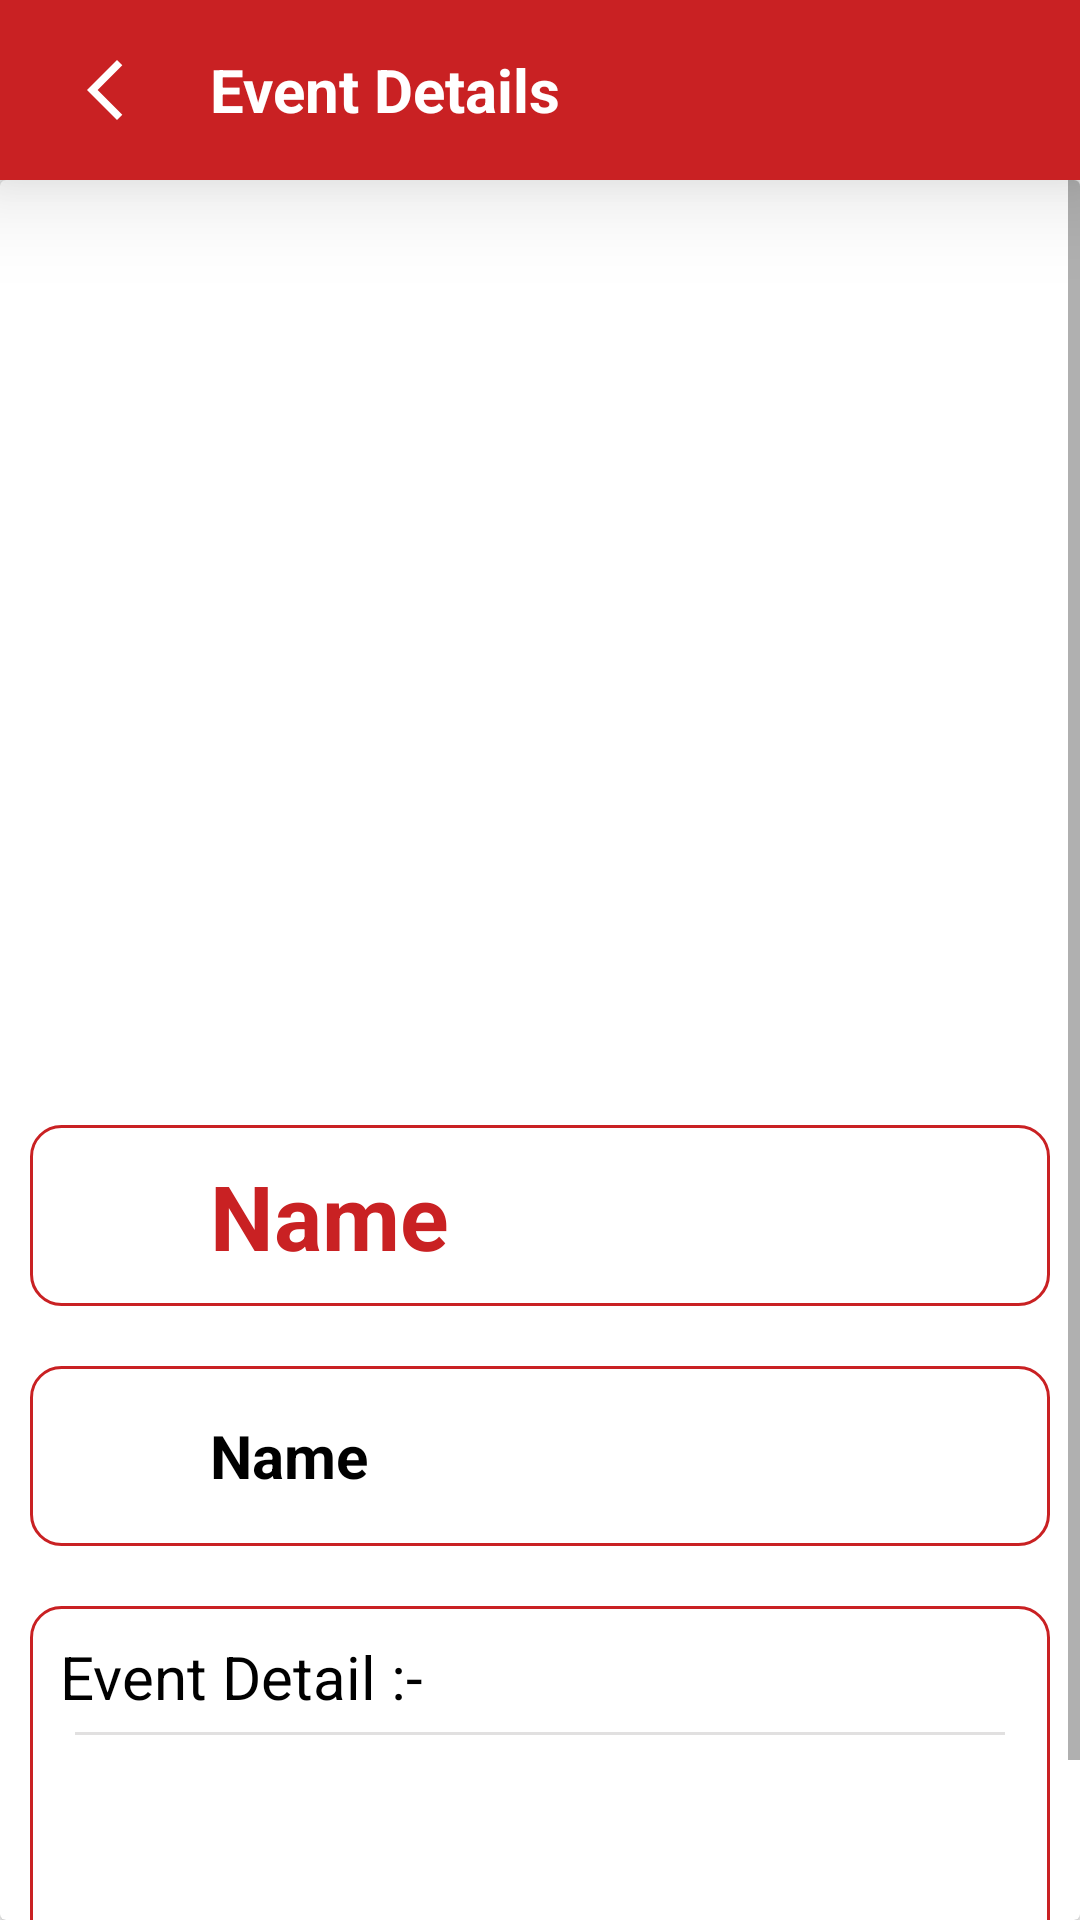

Screen size 1080 × 1920. Icon name, then its box in pixels as (x1, y1, x2, y2):
arrow back: (87, 60, 122, 120)
